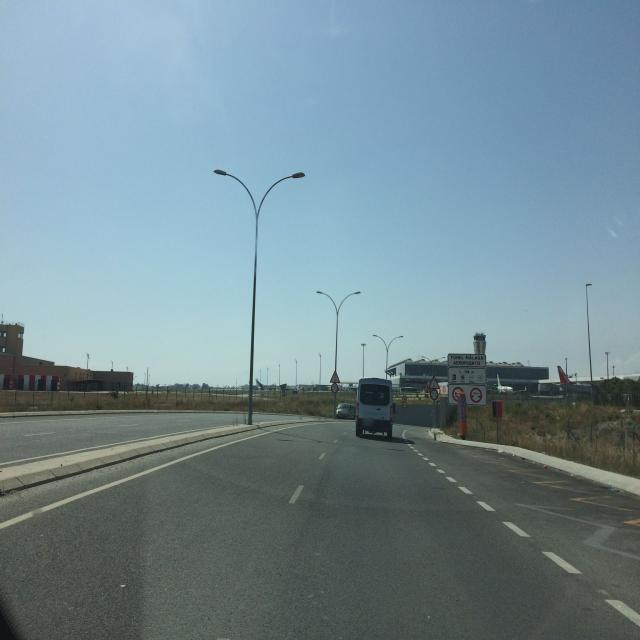car: (355, 377, 394, 440), (334, 402, 358, 421)
